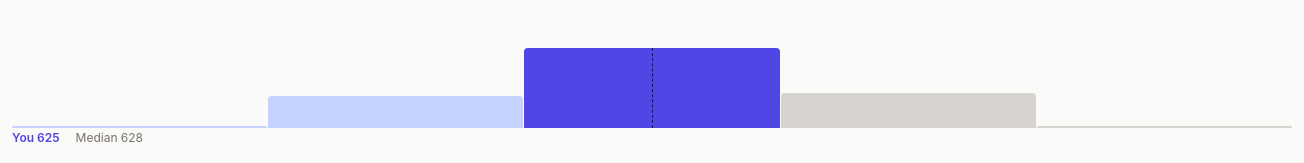
Distribution tooltip › closes when a tap lands outside the chart
Press the mouse on the element named "How 46 candidates scored. Your score is 625." at {"x": 652, "y": 70}, box [12,12,1292,128]
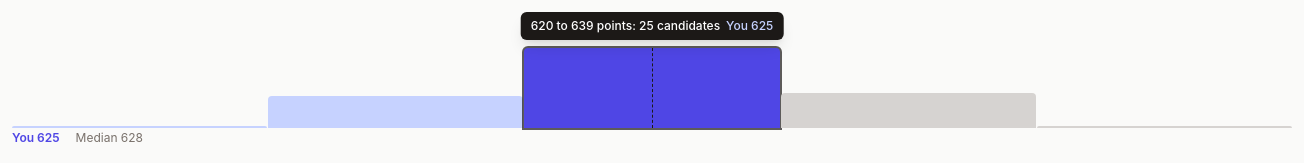
expect the tooltip is shown: met, box [521,12,783,40]
Press the mouse on the element that starts with "620 to 639 points: 25 candidates" at {"x": 652, "y": 79}, box [12,12,1292,146]
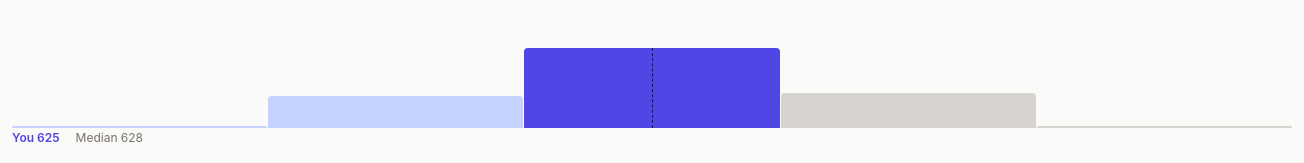
expect the tooltip is gone: met
